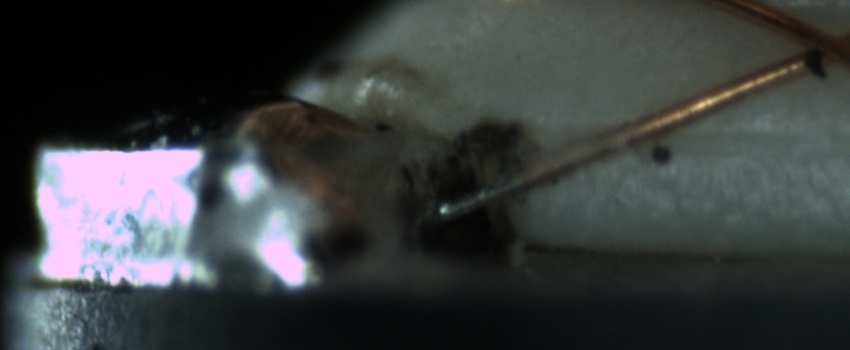CL: (774, 12, 848, 78)
DL: (669, 99, 845, 165)
TS: (428, 166, 525, 221)
